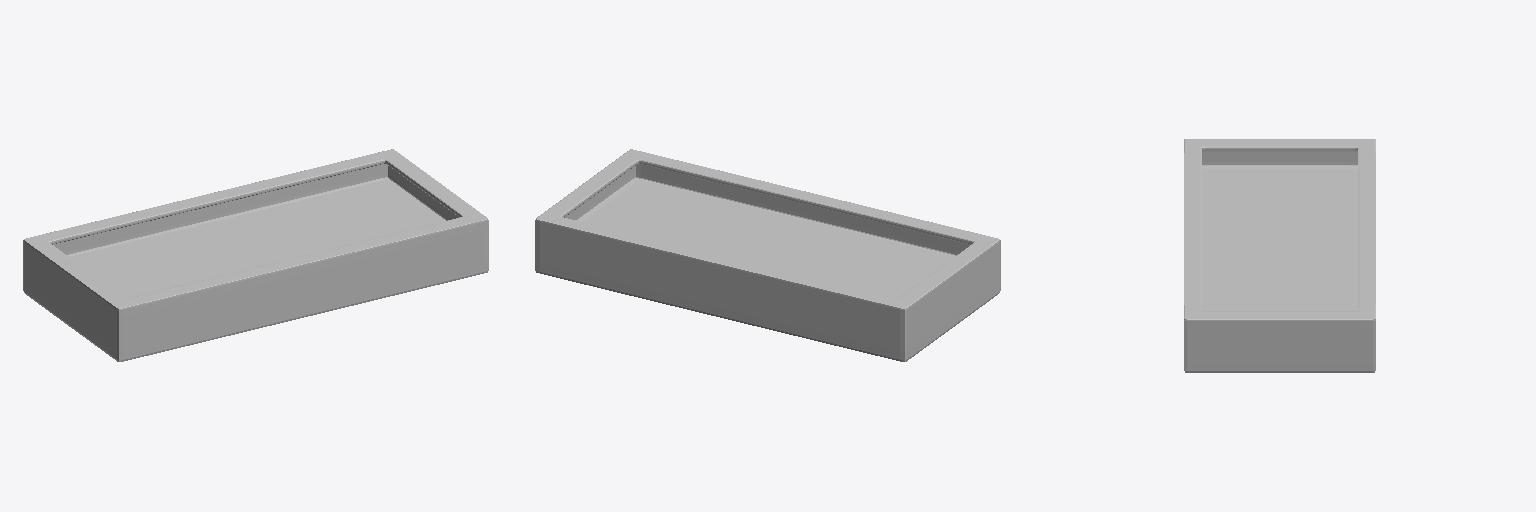
Rendered from Dice Table.obj.
3 views of the same model, side by side, from view 1: azimuth 30°, elevation 25°; view 2: azimuth 150°, elevation 25°; view 3: azimuth 270°, elevation 25° (orthographic).
Visible parts, largest first — view 1: Roll_Table_Cube; view 2: Roll_Table_Cube; view 3: Roll_Table_Cube.
Part boxes in pixels (left/top/right/bottom): Roll_Table_Cube: left=23, top=149, right=488, bottom=361; Roll_Table_Cube: left=535, top=149, right=1000, bottom=361; Roll_Table_Cube: left=1184, top=139, right=1375, bottom=372.
Bounding box in the file's own units: 4.14 × 0.5771 × 1.86.